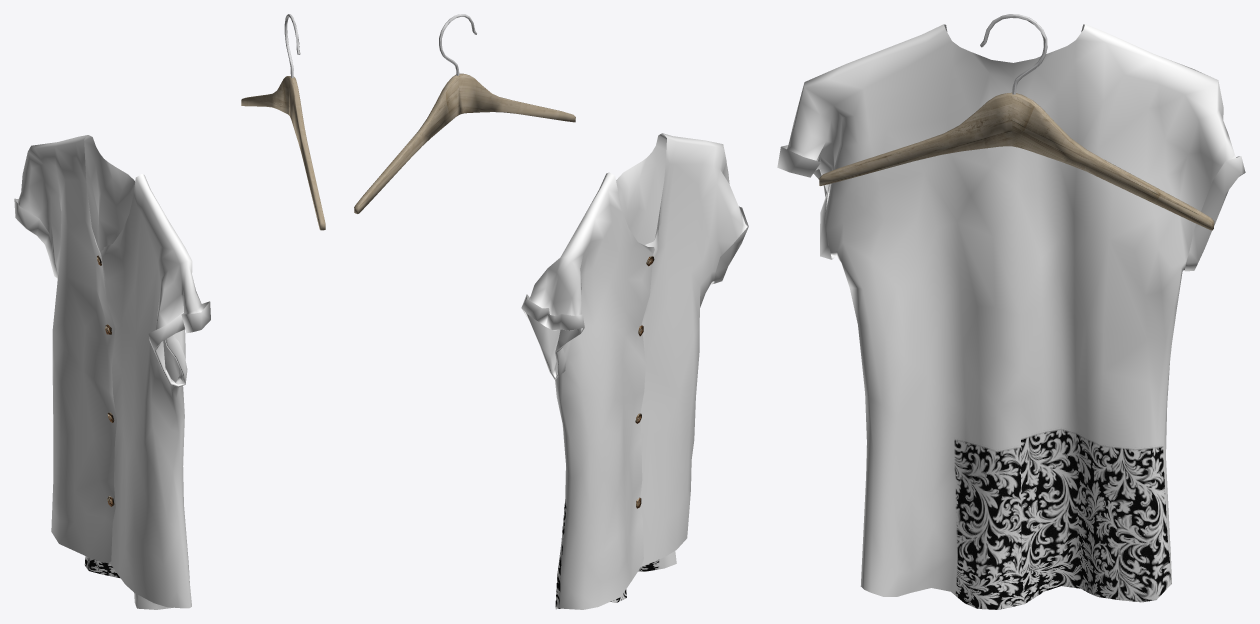
File: rod-blouse04.glb
3 renders of one model, left to right at view 1: azimuth 30°, elevation 25°; view 2: azimuth 150°, elevation 25°; view 3: azimuth 270°, elevation 25°, orthographic. The views are drawn at different scales.
Visible parts, largest first — view 1: blouse04.001, Hangers_for_clothes099.001; view 2: blouse04.001, Hangers_for_clothes099.001; view 3: blouse04.001, Hangers_for_clothes099.001.
Boxes of the visible parts, x1=… form: blouse04.001: x1=14, y1=135, x2=210, y2=609; Hangers_for_clothes099.001: x1=241, y1=14, x2=325, y2=230; blouse04.001: x1=521, y1=133, x2=748, y2=609; Hangers_for_clothes099.001: x1=354, y1=14, x2=575, y2=213; blouse04.001: x1=777, y1=24, x2=1245, y2=609; Hangers_for_clothes099.001: x1=819, y1=14, x2=1214, y2=230.
Size of the model in its own units: 0.4025 by 0.8265 by 0.5021.
4 materials, 3 textured.
